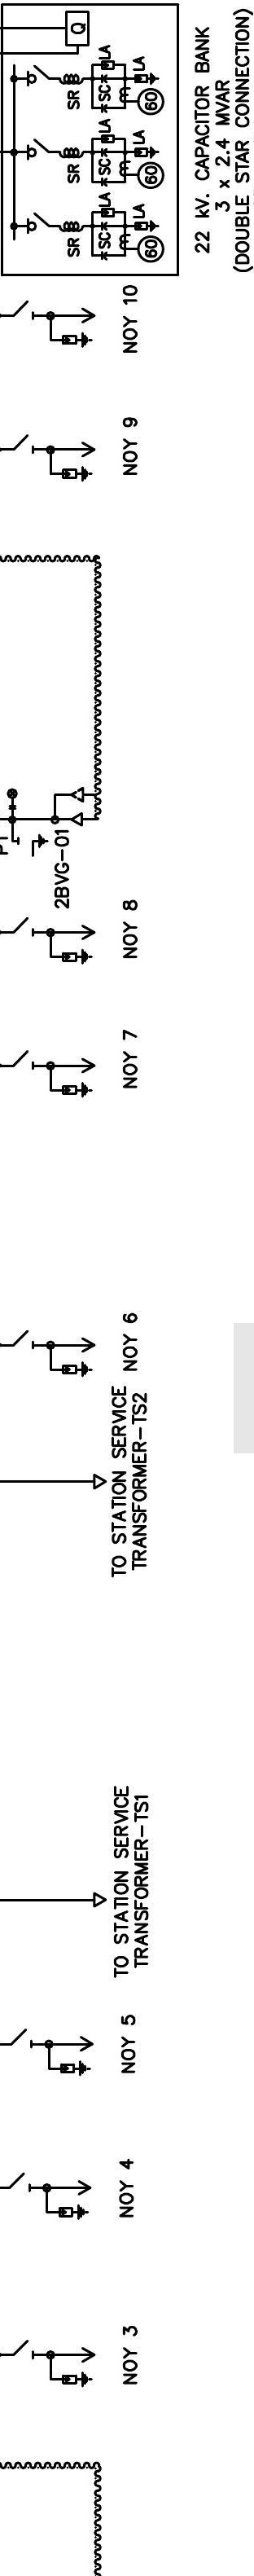22_cap_bank: (0, 3, 180, 278)
22_ds_la_out: (11, 2027, 95, 2077), (13, 1050, 97, 1099), (13, 434, 97, 483), (13, 299, 97, 348), (13, 2339, 97, 2387), (10, 2172, 93, 2219), (13, 1329, 97, 1377), (13, 917, 97, 964)
22_gs: (16, 833, 49, 858)
22_ll: (5, 787, 18, 810)
Q: (64, 10, 90, 48)
terminator_single: (92, 1891, 107, 1909), (92, 1474, 107, 1490)
terminator_w_future: (52, 785, 85, 828)
